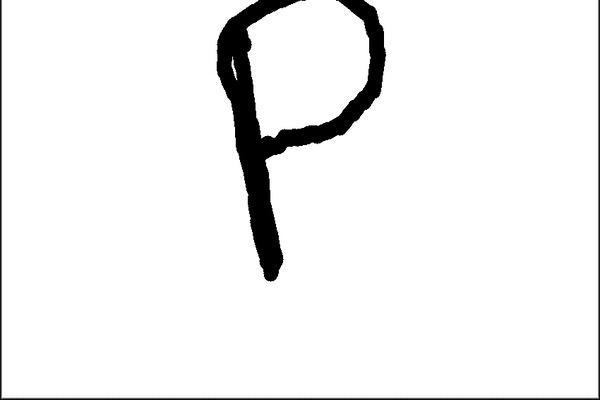P: (204, 0, 403, 297)
